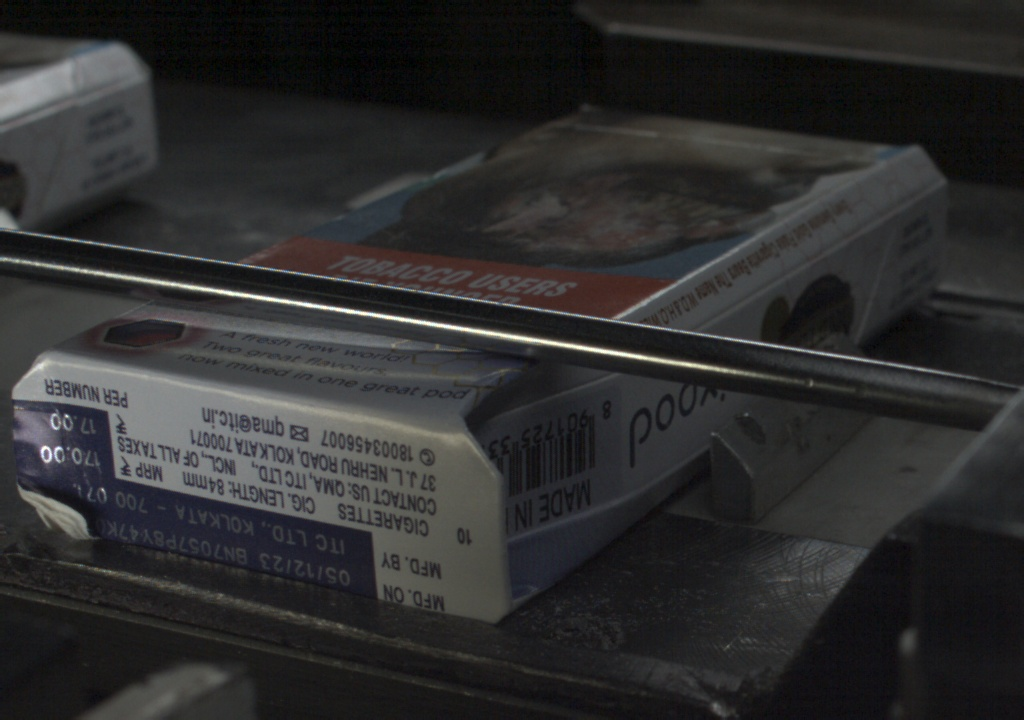g_lmiter: (701, 270, 800, 327), (799, 217, 882, 271)
g_miter: (886, 178, 945, 218)
ng_bottom: (10, 395, 102, 542)
ng_label: (21, 479, 373, 593)
price: (18, 407, 114, 477)
